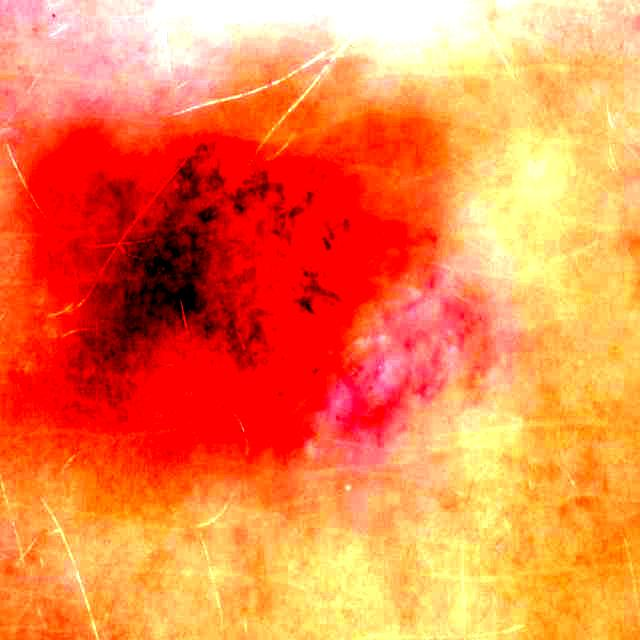NV: (78, 141, 405, 425)
